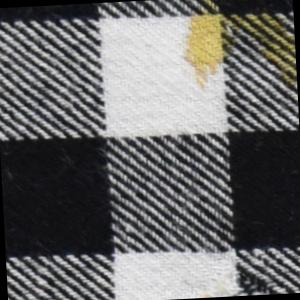Damage: (231, 261, 283, 297)
Stain: (177, 1, 298, 101)
